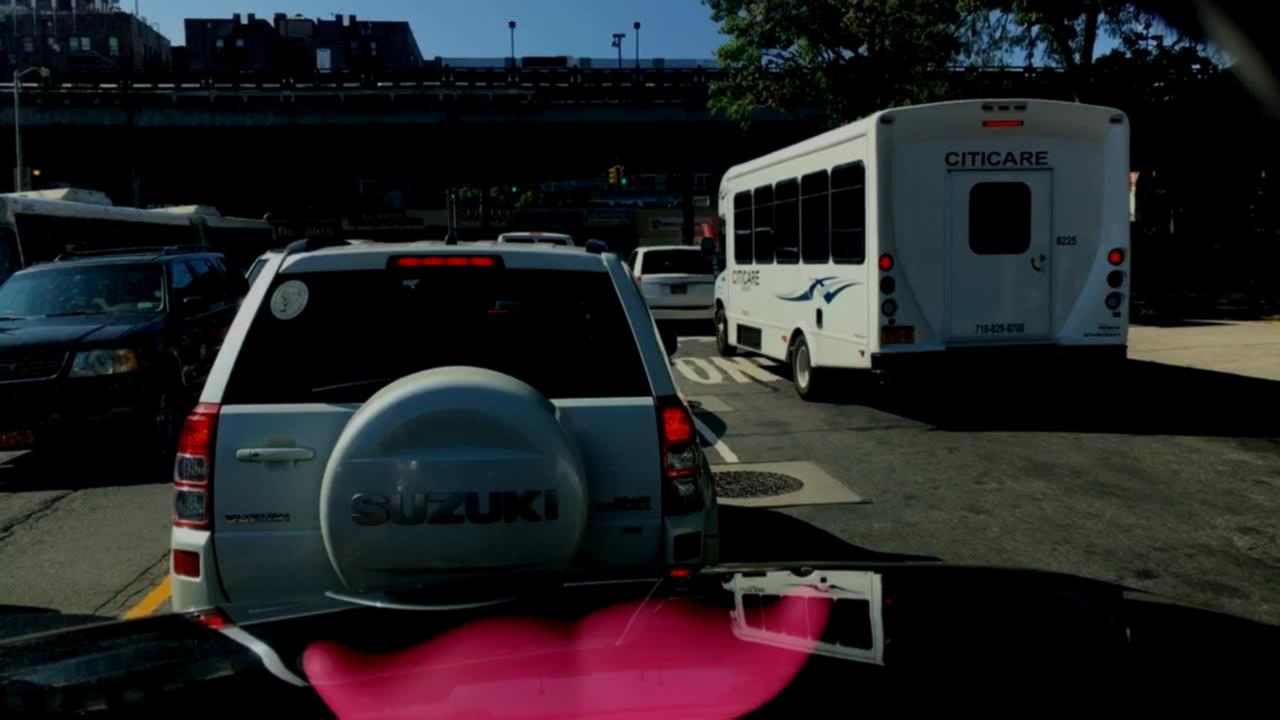suzuki: (350, 484, 562, 534)
